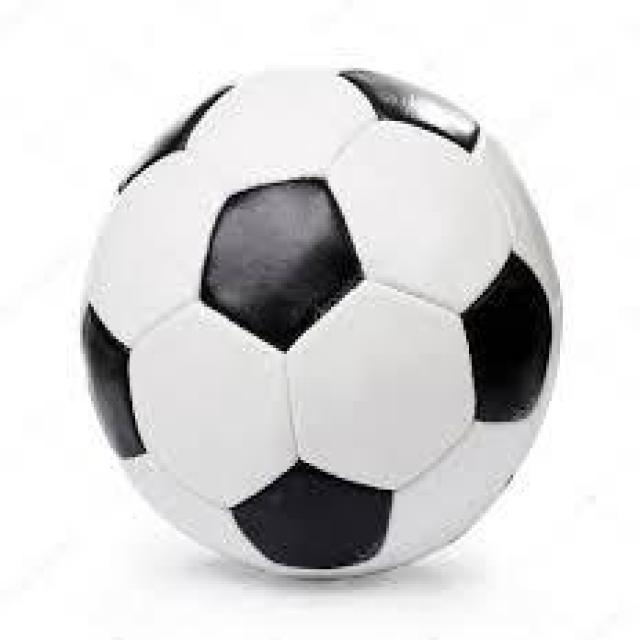ball: (77, 71, 557, 578)
